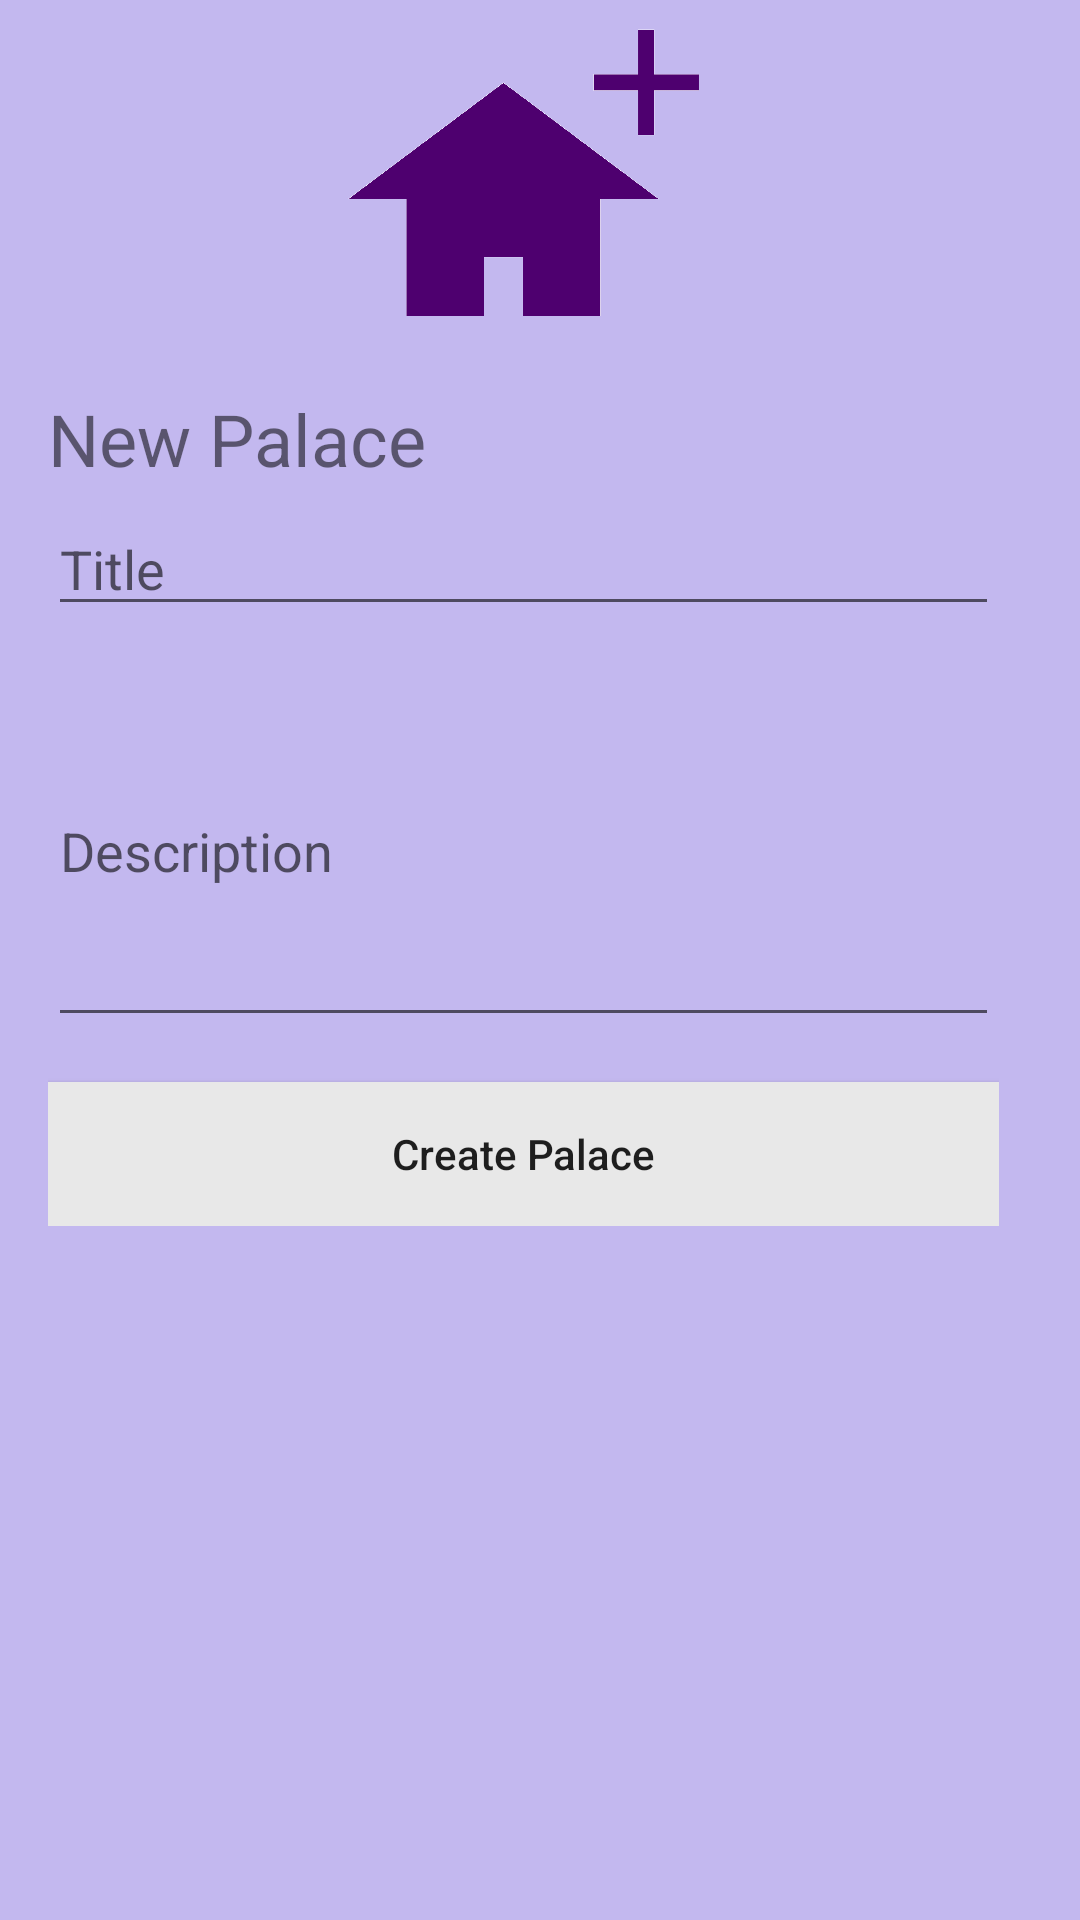

Named icons in this screenshot (1080x1920) and their centers, [x,y]:
createpurple: [524,172]
